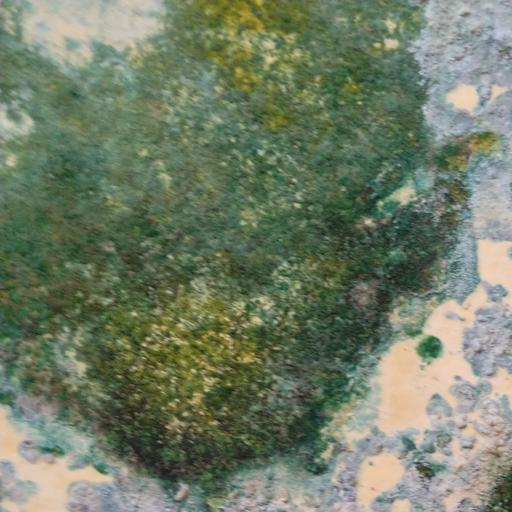algae: (0, 0, 468, 479)
